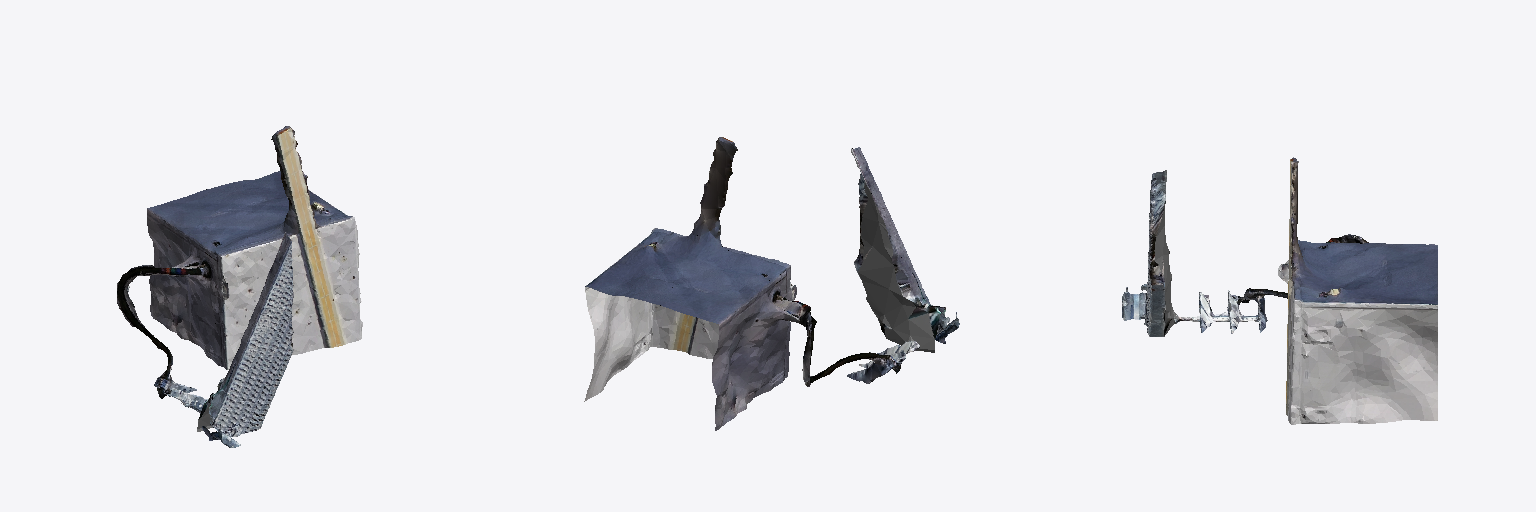
3 renders of one model, left to right at view 1: azimuth 30°, elevation 25°; view 2: azimuth 150°, elevation 25°; view 3: azimuth 270°, elevation 25°, orthographic.
Size of the model in its own units: 1.25 by 1.21 by 1.52.
Materials: 2 (1 with a texture image).